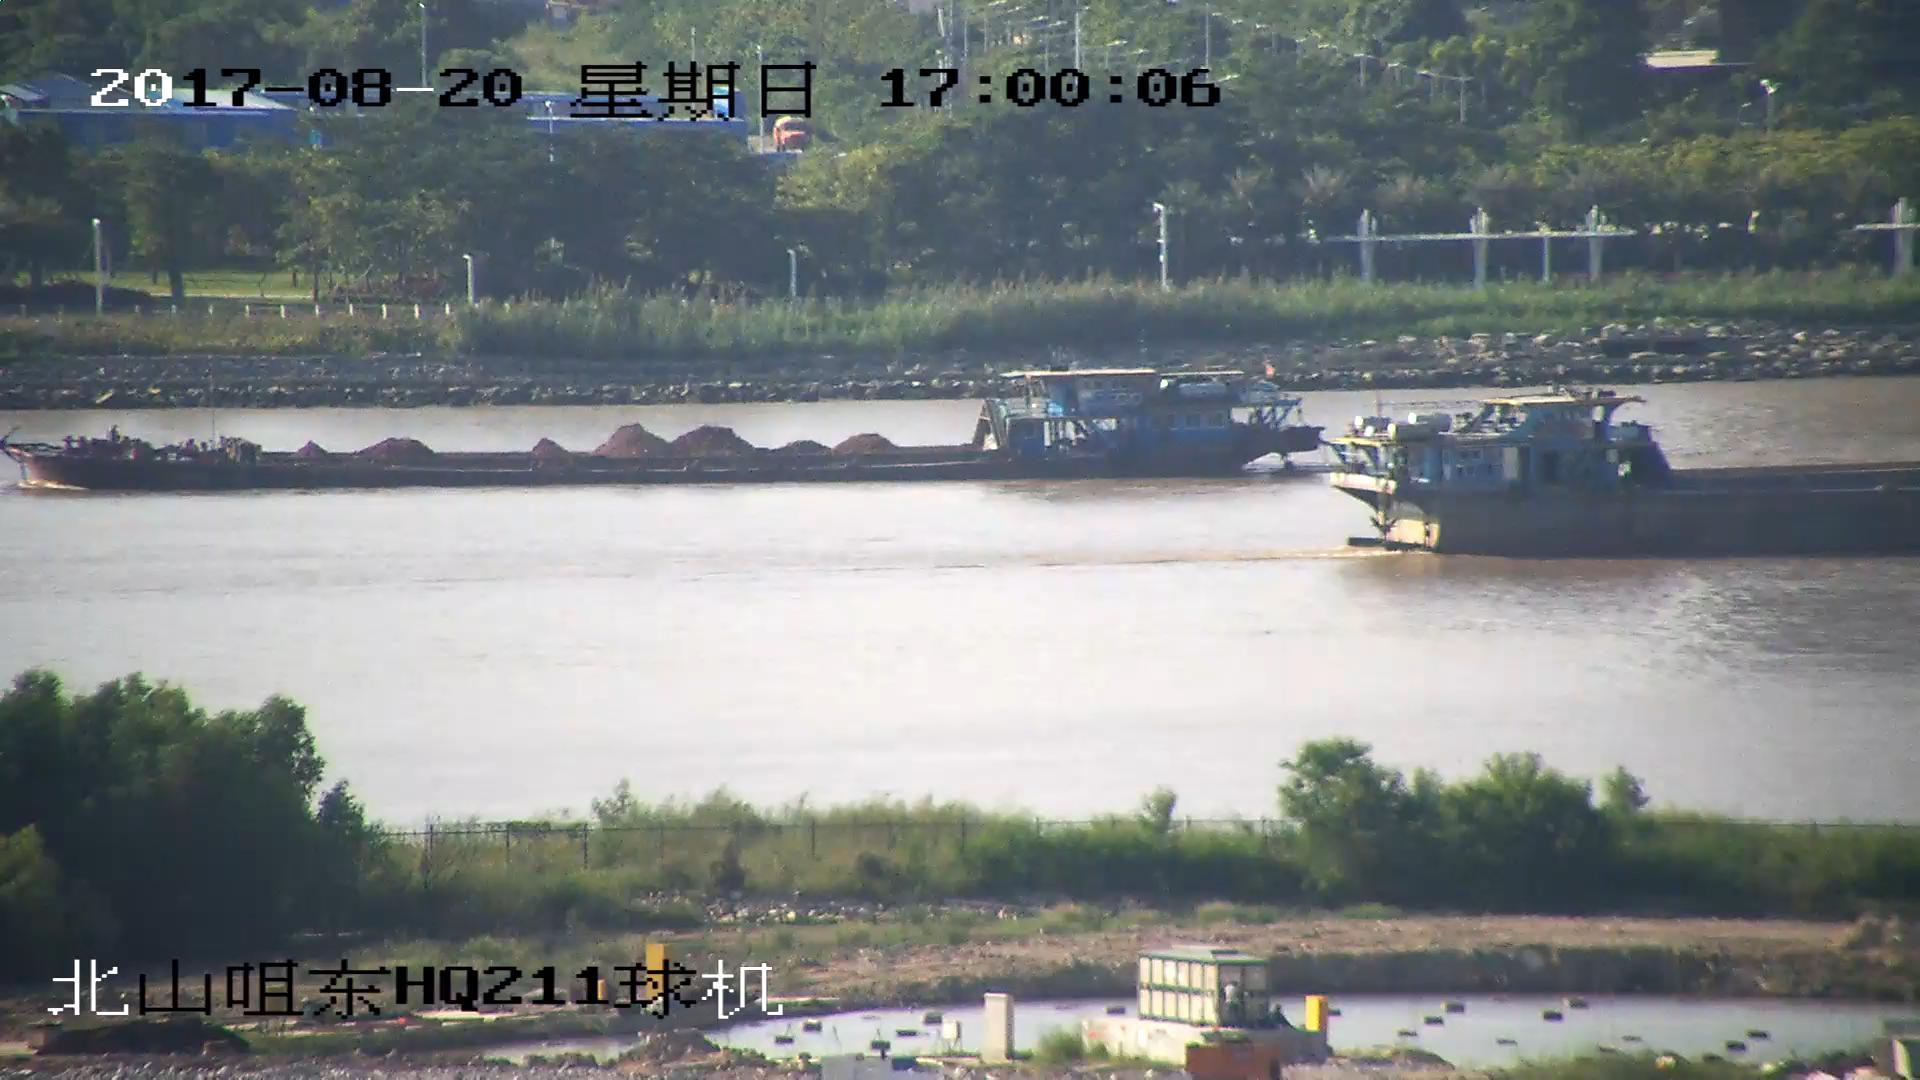Ship: (3, 367, 1324, 493), (1327, 394, 1920, 560)
